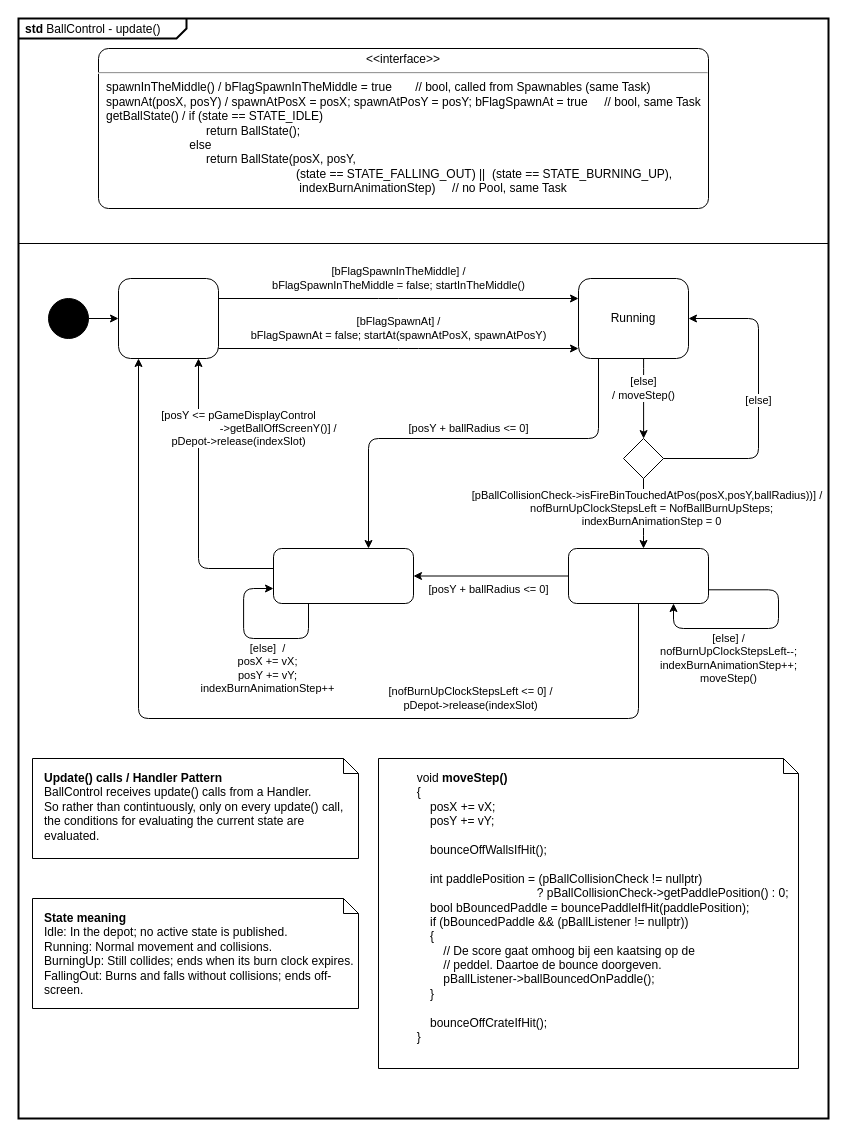
Some shapes in this 846 by 1136 pixel diagram are drawn without their labels. Here are the shapes that lost their labels. From the top down, the centre of each, then its label:
At point (168, 318): "Idle".
At point (343, 576): "FallingOut".
At point (638, 576): "BurningUp".
